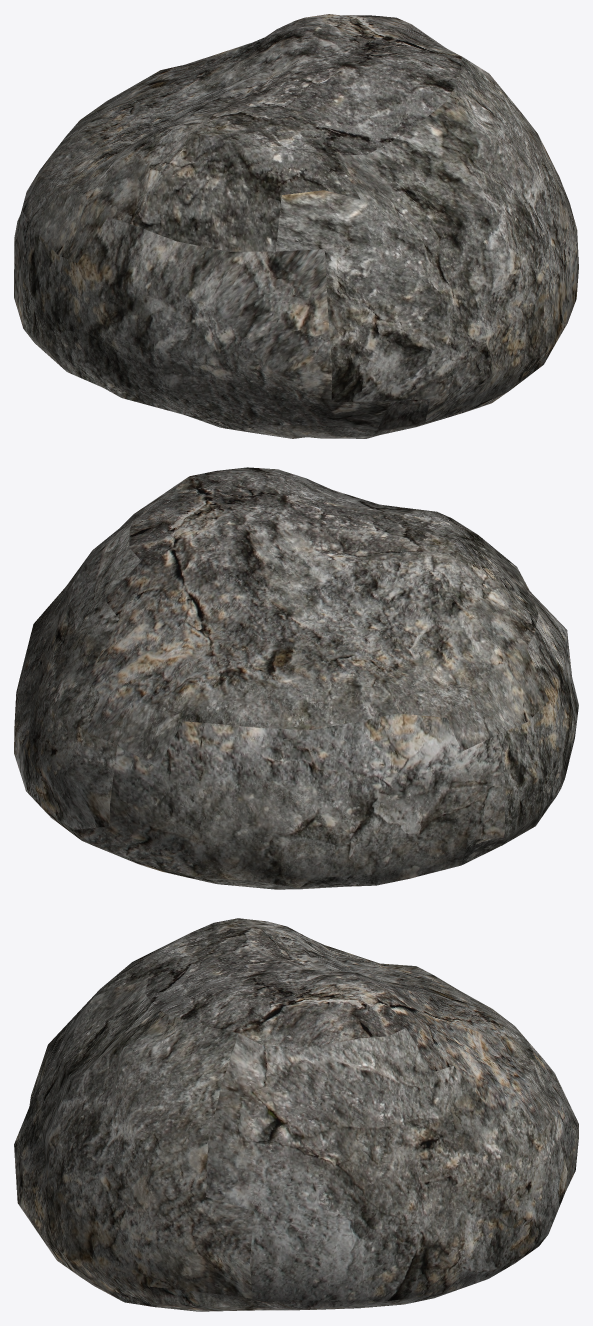
The model's file is Boulder_v2.glb.
The picture shows the model from 3 angles, top to bottom: view 1: azimuth 30°, elevation 25°; view 2: azimuth 150°, elevation 25°; view 3: azimuth 270°, elevation 25°; orthographic projection. The views are drawn at different scales.
Parts seen in each view (by area): view 1: Sphere; view 2: Sphere; view 3: Sphere.
Part boxes in pixels (x1=…): Sphere: x1=14, y1=14, x2=578, y2=438; Sphere: x1=14, y1=467, x2=578, y2=889; Sphere: x1=14, y1=918, x2=578, y2=1311.
Size of the model in its own units: 6.82 by 3.97 by 6.88.
Materials: 1 (1 with a texture image).
